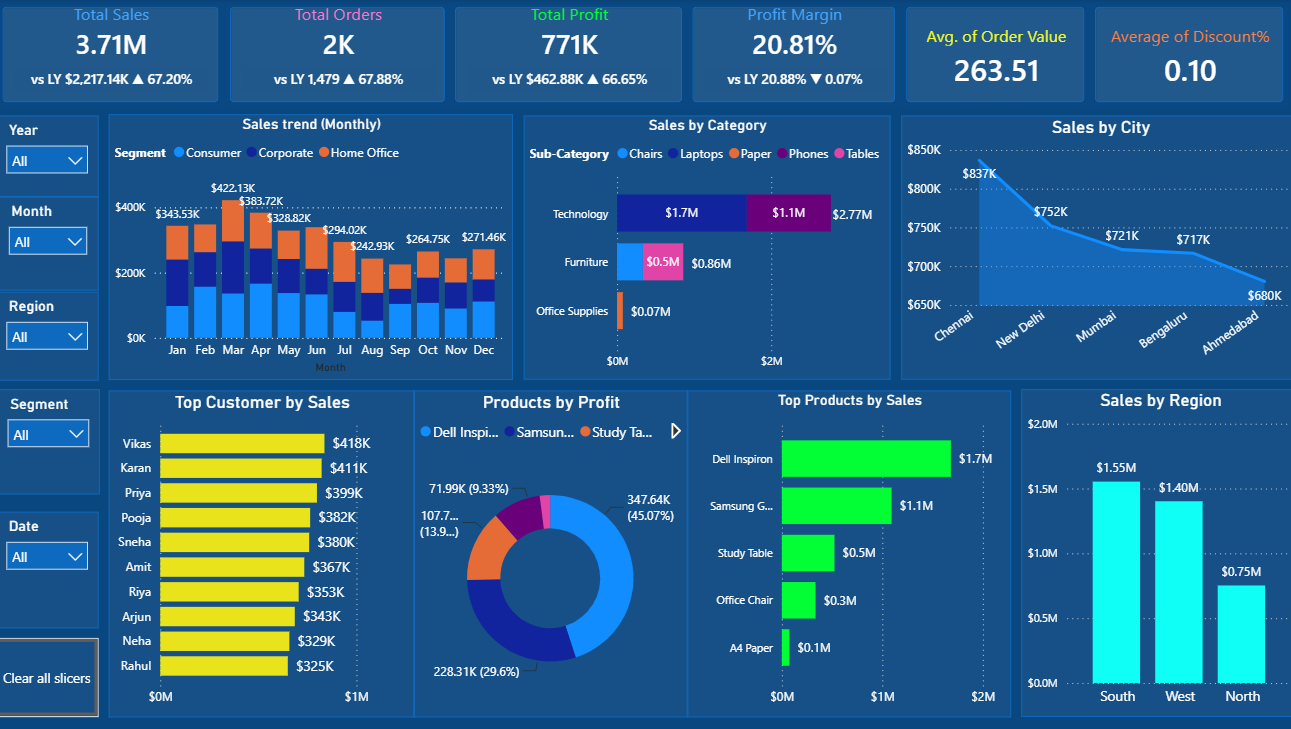

This screenshot's page, from the dashboard's own definition file:
{"tool":"powerbi","page":{"name":"Page 1","canvas":[1280,720],"ordinal":0},"visuals":[{"type":"columnChart","title":"Sales trend (Monthly)","fields":{"Y":["Sum(Sheet.Sales)"],"Series":["Sheet.Segment"],"Category":["Sheet.Month"]},"box":[111.3,114,396.4,260.7],"z":0},{"type":"barChart","title":"Sales by Category","fields":{"Y":["Sum(Sheet.Sales)"],"Category":["Sheet.Category"],"Series":["Sheet.Sub-Category"]},"box":[518.6,115.4,359.8,259.3],"z":1000},{"type":"clusteredBarChart","title":"Top Products by Sales","fields":{"Y":["Sum(Sheet.Sales)"],"Category":["Sheet.Product Name"]},"box":[680.2,385.6,317.7,320.4],"z":2000},{"type":"barChart","title":"Top Customer by Sales","fields":{"Category":["Sheet.Customer Name"],"Y":["Sum(Sheet.Sales)"]},"box":[111.3,385.6,300,320.4],"z":3000},{"type":"donutChart","title":"Products by Profit","fields":{"Y":["Sum(Sheet.Profit)"],"Category":["Sheet.Product Name"]},"box":[411.4,385.6,268.8,320.4],"z":4000},{"type":"lineStackedColumnComboChart","title":"Sales by Region","fields":{"Category":["Sheet.Region"],"Y":["Sum(Sheet.Sales)"]},"box":[1007.4,384.2,272.9,321.8],"z":5000},{"type":"slicer","fields":{"Values":["Sheet.Year"]},"box":[0,115.4,101.8,80.1],"z":6000},{"type":"slicer","fields":{"Values":["Sheet.Month"]},"box":[2.7,195.5,99.1,92.3],"z":7000},{"type":"slicer","fields":{"Values":["Sheet.Region"]},"box":[0,287.8,101.8,86.9],"z":8000},{"type":"slicer","fields":{"Values":["Sheet.Segment"]},"box":[1.4,384.2,101.8,103.2],"z":9000},{"type":"slicer","fields":{"Values":["Sheet.Order Date"]},"box":[0,503.7,101.8,114],"z":10000},{"type":"cardVisual","fields":{"Data":["Date.Total Profit"]},"box":[446.7,4.1,233.5,104.5],"z":11000},{"type":"cardVisual","fields":{"Data":["Avg(Sheet.Unit Cost)"]},"box":[889.3,4.1,186,104.5],"z":12000},{"type":"areaChart","title":"Sales by City","fields":{"Category":["Sheet.City"],"Y":["Sum(Sheet.Sales)"]},"box":[889.3,115.4,391,259.3],"z":13000},{"type":"actionButton","box":[0,628.6,101.8,77.4],"z":14000},{"type":"cardVisual","fields":{"Data":["Date.Total Sales"]},"box":[2.7,4.1,222.7,104.5],"z":15000},{"type":"cardVisual","fields":{"Data":["Date.Total Orders"]},"box":[225.4,4.1,221.3,104.5],"z":16000},{"type":"cardVisual","fields":{"Data":["Date.Profit Margin %"]},"box":[680.2,4.1,209.1,104.5],"z":17000},{"type":"cardVisual","fields":{"Data":["Avg(Sheet.Discount)"]},"box":[1075.3,4.1,195.5,104.5],"z":18000}]}

Visuals, with their boxes in screenshot pixels (x1, y1, x2, y2), scaled from the page's 1280x720 canvas onto the 1291x729 screenshot:
"Sales trend (Monthly)" columnChart: box(112, 115, 512, 379)
"Sales by Category" barChart: box(523, 117, 886, 379)
"Top Products by Sales" clusteredBarChart: box(686, 390, 1006, 715)
"Top Customer by Sales" barChart: box(112, 390, 415, 715)
"Products by Profit" donutChart: box(415, 390, 686, 715)
"Sales by Region" lineStackedColumnComboChart: box(1016, 389, 1290, 715)
slicer - Sheet.Year: box(0, 117, 103, 198)
slicer - Sheet.Month: box(3, 198, 103, 291)
slicer - Sheet.Region: box(0, 291, 103, 379)
slicer - Sheet.Segment: box(1, 389, 104, 493)
slicer - Sheet.Order Date: box(0, 510, 103, 625)
cardVisual - Date.Total Profit: box(451, 4, 686, 110)
cardVisual - Avg(Sheet.Unit Cost): box(897, 4, 1085, 110)
"Sales by City" areaChart: box(897, 117, 1290, 379)
actionButton: box(0, 636, 103, 715)
cardVisual - Date.Total Sales: box(3, 4, 227, 110)
cardVisual - Date.Total Orders: box(227, 4, 451, 110)
cardVisual - Date.Profit Margin %: box(686, 4, 897, 110)
cardVisual - Avg(Sheet.Discount): box(1085, 4, 1282, 110)
